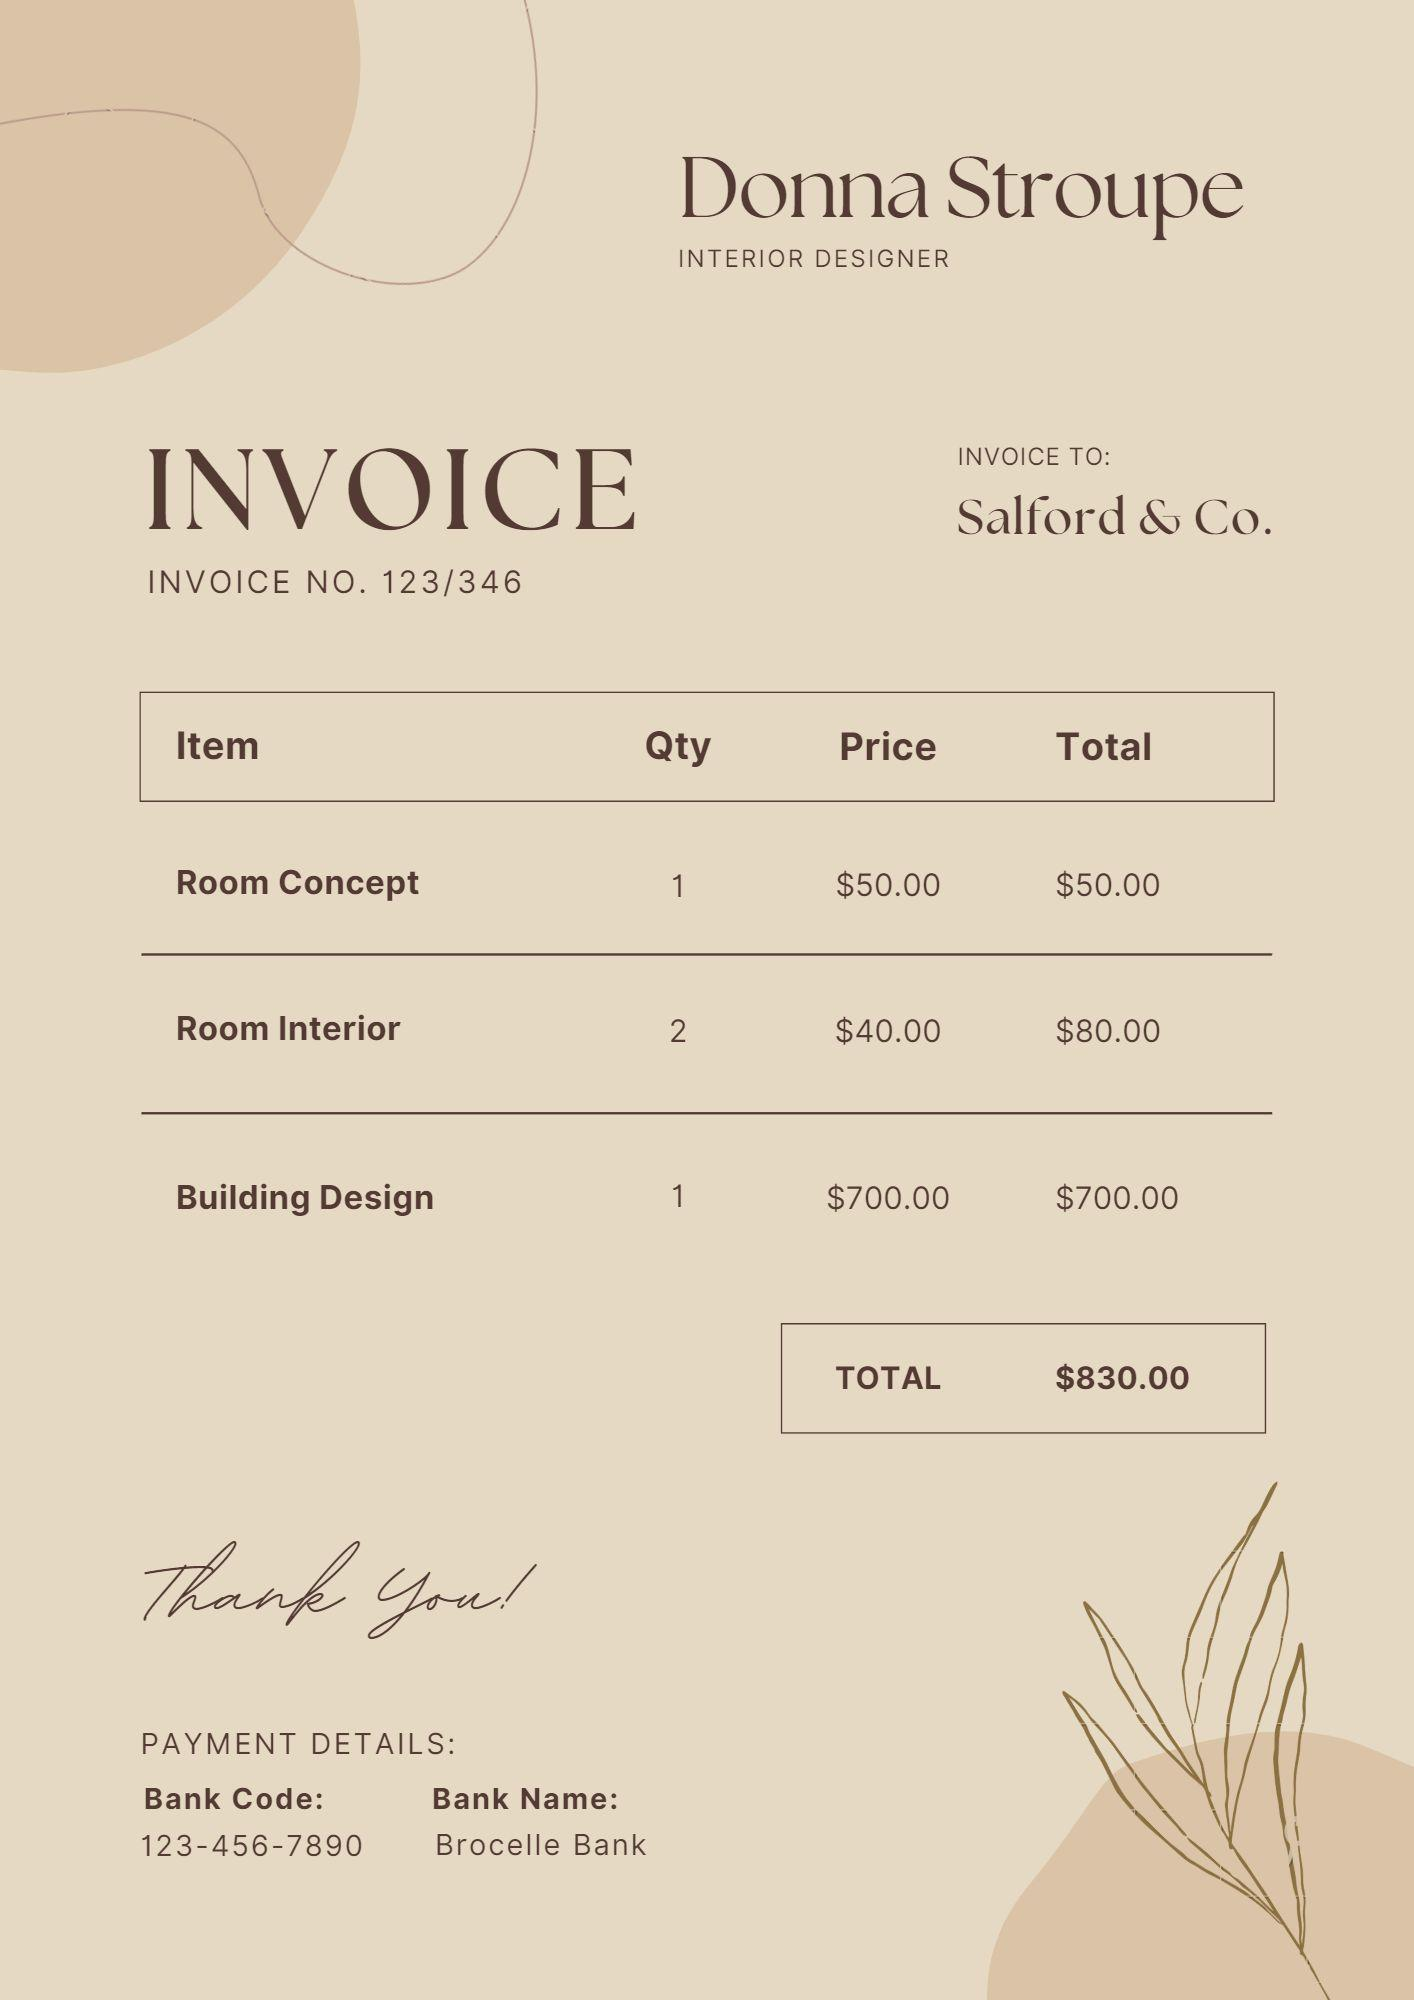ROI: (130, 679, 1282, 1256)
